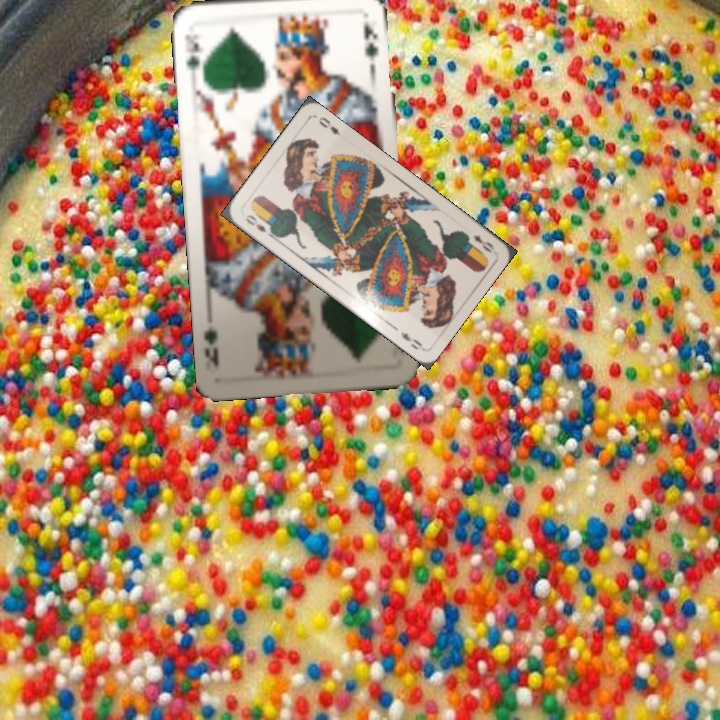EO: (241, 210, 275, 239), (469, 230, 497, 255)
GK: (180, 30, 206, 75)
